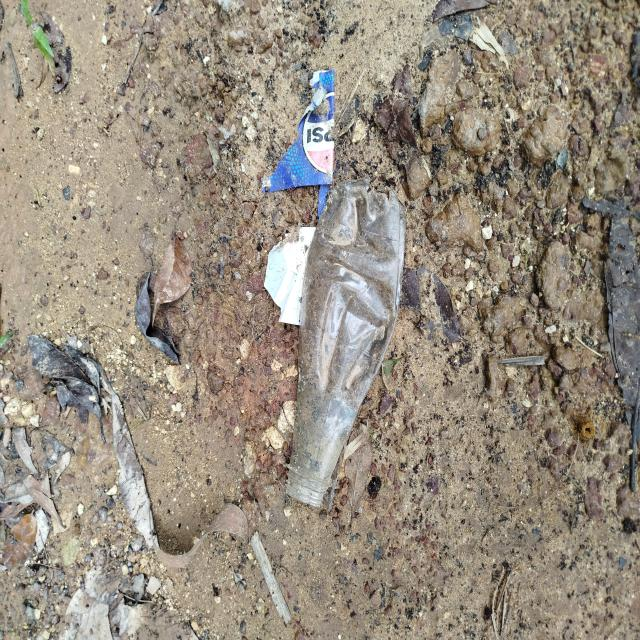plastic: (285, 167, 408, 514)
